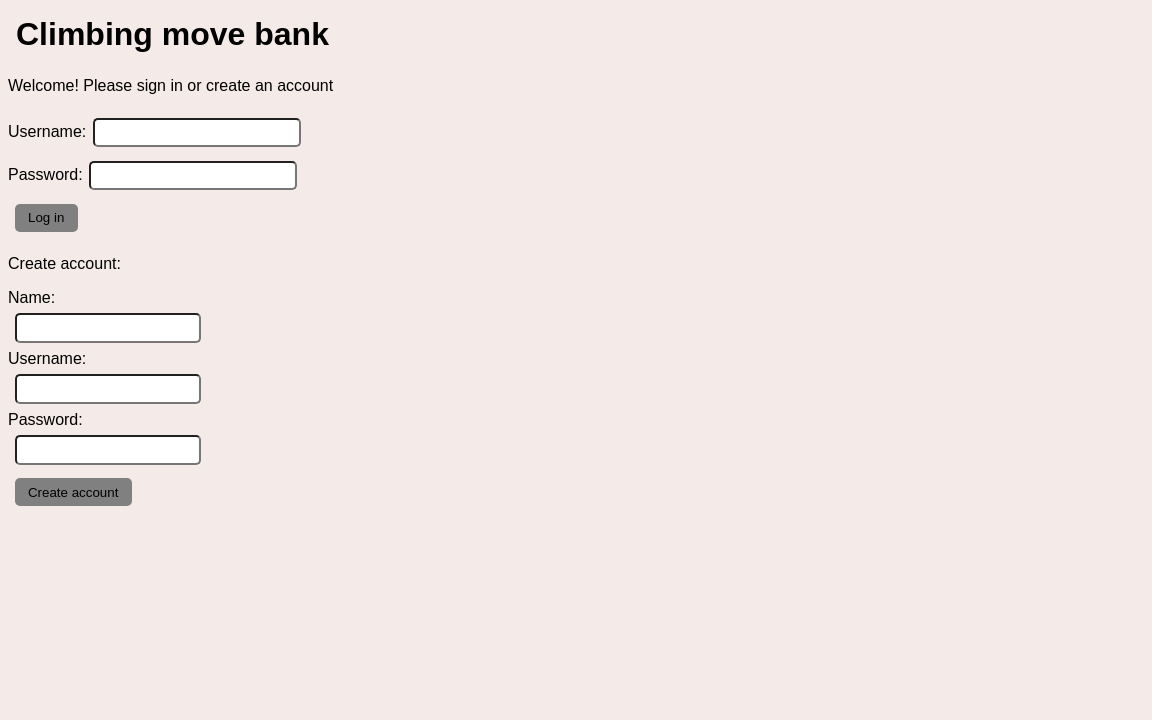
it: climbing move bank › login without credentials creates error
Click the button "Log in": coordinates (47, 218) [15,204,78,232]
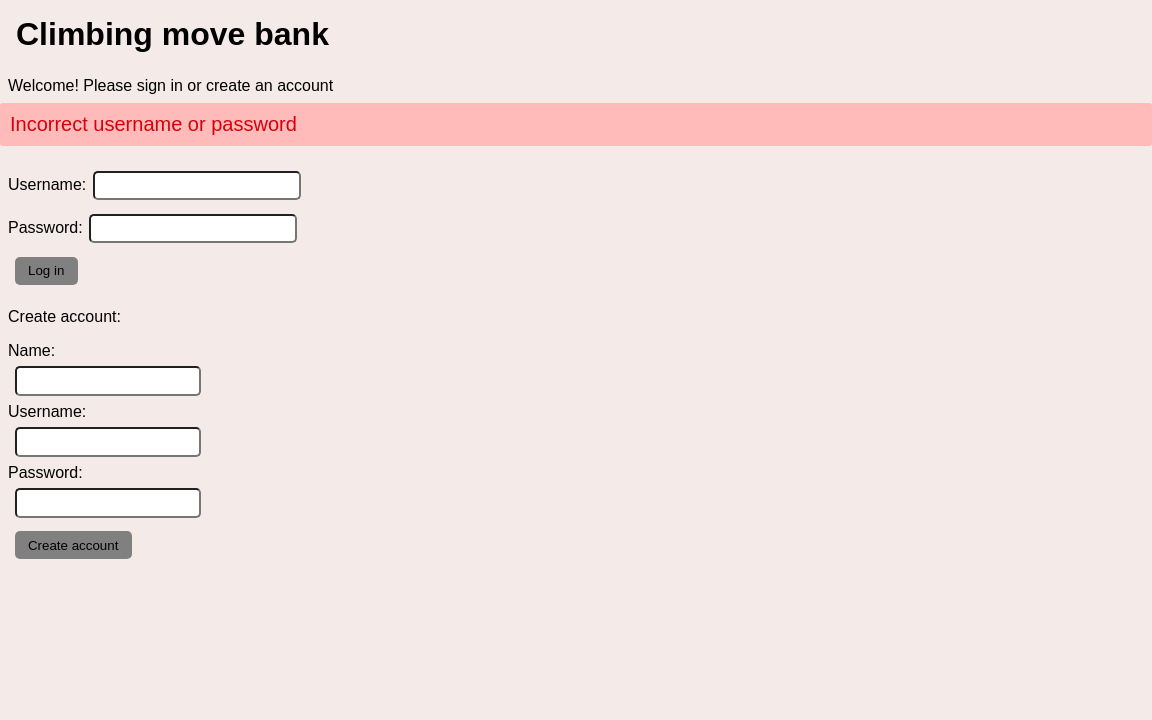
Now the text "Incorrect username or password" is shown, box [0,103,1151,146]
